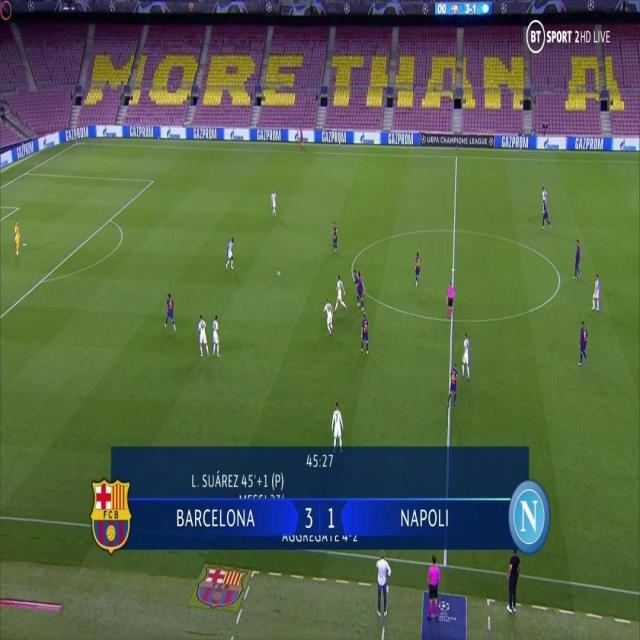ball: (276, 268, 282, 278)
goalkeeper: (422, 548, 447, 629), (13, 215, 22, 260)
player: (331, 399, 345, 457), (333, 275, 348, 316), (196, 315, 210, 358), (163, 291, 177, 333), (461, 331, 472, 382), (577, 321, 589, 367), (447, 362, 459, 408), (571, 238, 583, 282), (590, 273, 602, 315), (321, 298, 334, 336), (211, 314, 221, 359), (413, 248, 423, 289), (361, 311, 370, 356), (225, 236, 236, 272), (357, 270, 366, 311), (542, 198, 553, 230), (352, 268, 360, 307), (271, 187, 278, 218), (332, 219, 338, 255), (541, 188, 548, 217)
referee: (445, 279, 456, 321), (297, 125, 305, 152)
